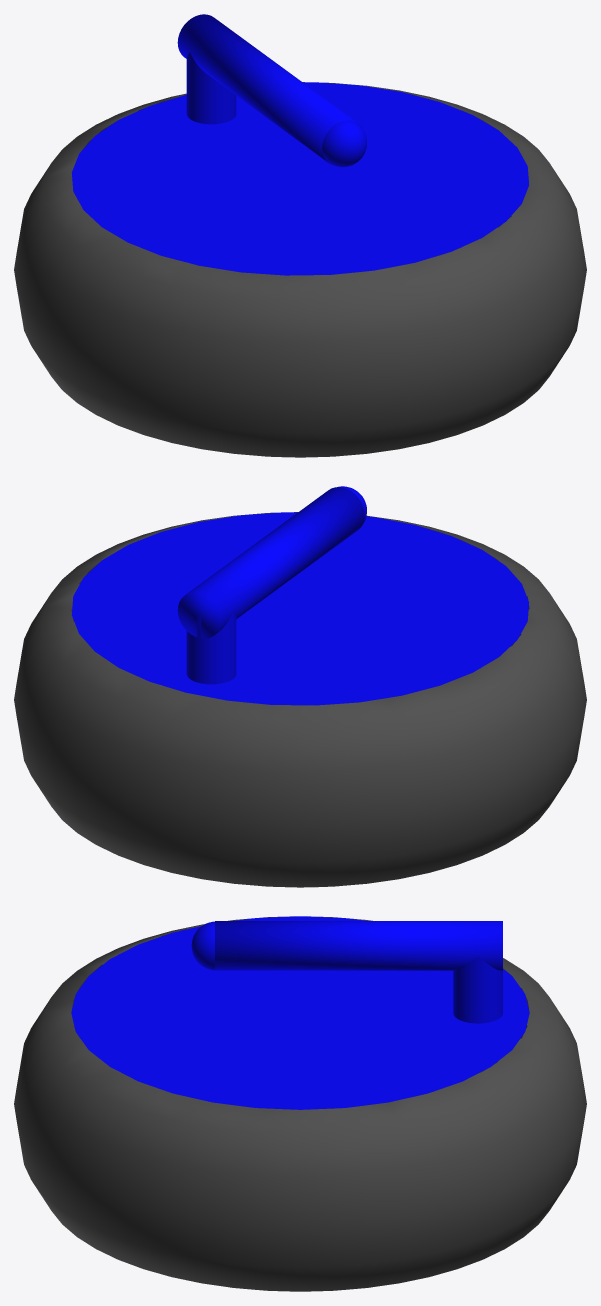
File: rock-blue.obj
3 renders of one model, top to bottom at view 1: azimuth 30°, elevation 25°; view 2: azimuth 150°, elevation 25°; view 3: azimuth 270°, elevation 25°, orthographic.
Parts seen in each view (by area): view 1: rock; view 2: rock; view 3: rock.
Part boxes in pixels (x1,y1,x2,y2): rock: (14,14,586,457); rock: (14,486,586,887); rock: (14,916,586,1291).
Size of the model in its own units: 0.2996 by 0.1568 by 0.2996.
